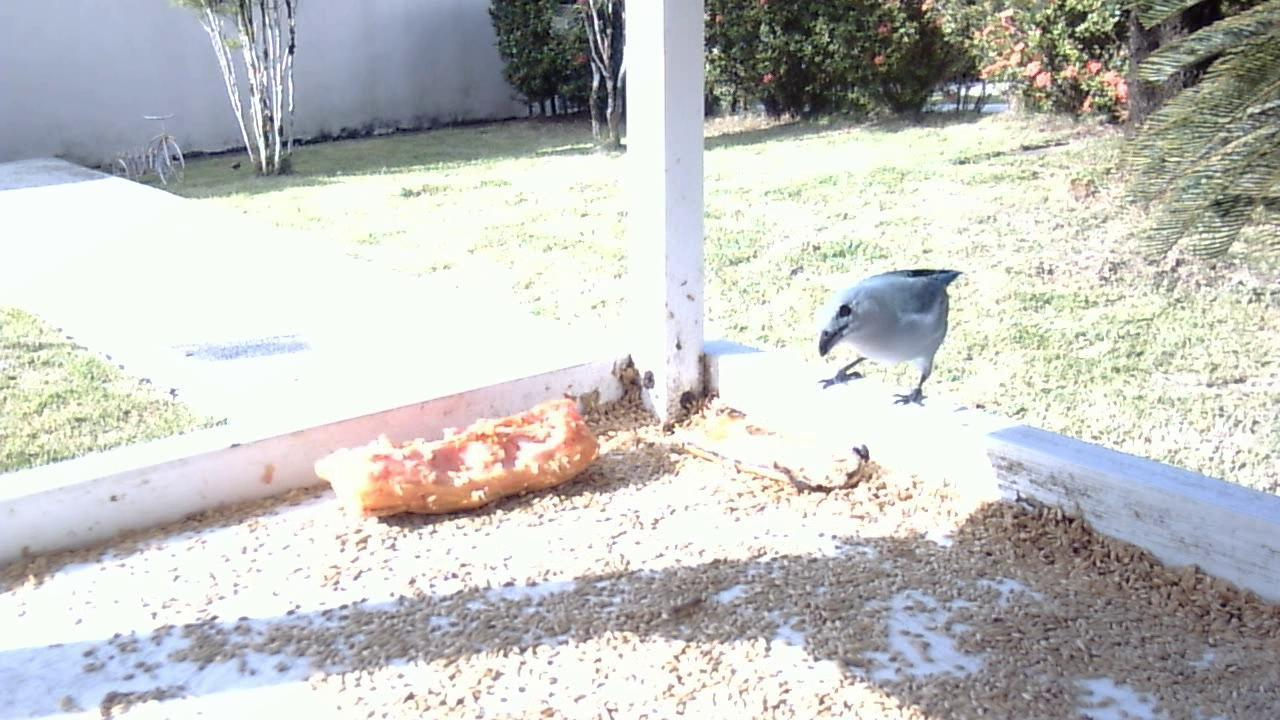sanhaco_da_amazonia: (807, 263, 971, 411)
